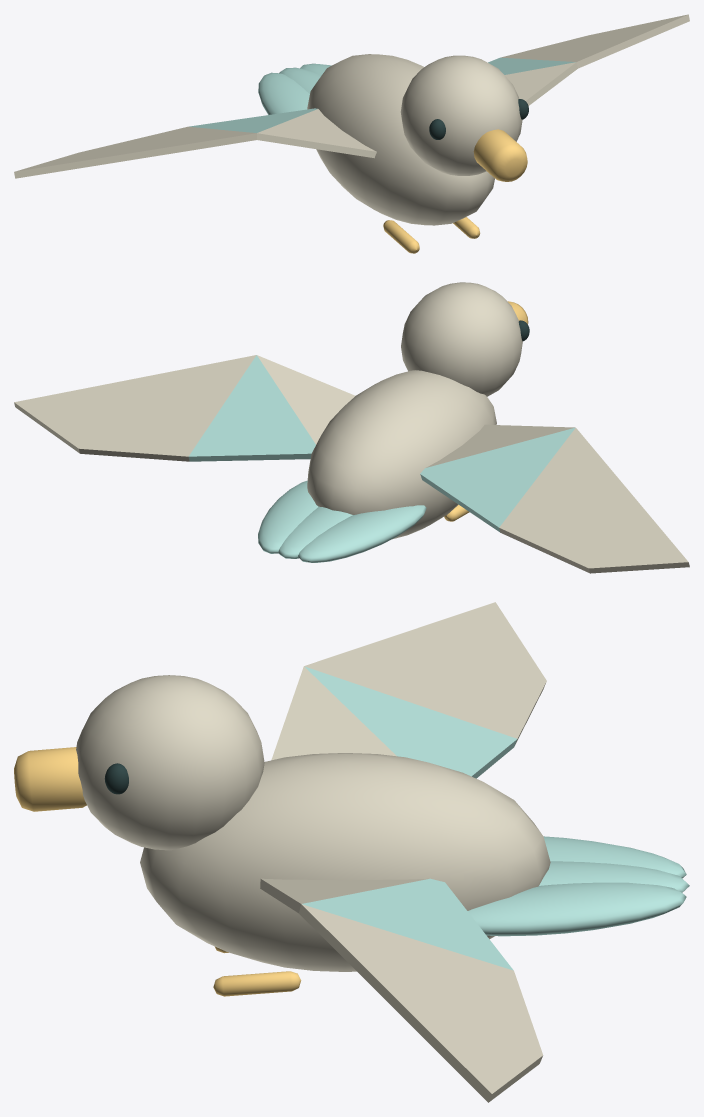
File: q_magic_dove.glb
3 views of the same model, one above another, from view 1: azimuth 30°, elevation 25°; view 2: azimuth 150°, elevation 25°; view 3: azimuth 270°, elevation 25° (orthographic). The views are drawn at different scales.
Parts seen in each view (by area): view 1: DoveBody, DoveHead, WingLeftPaper, WingRightPaper, DoveBeak, DoveTail, DoveFoot, DoveTail.001; view 2: WingRightPaper, WingLeftPaper, DoveBody, DoveHead, DoveTail, DoveTail.002, DoveTail.001; view 3: DoveBody, WingLeftPaper, WingRightPaper, DoveHead, DoveTail.002, DoveBeak, DoveTail.001, DoveTail, DoveFoot.001.
Part boxes in pixels (left/top/right/bottom): DoveBody: left=307, top=54, right=494, bottom=225; DoveHead: left=400, top=55, right=522, bottom=175; WingLeftPaper: left=14, top=108, right=376, bottom=178; WingRightPaper: left=488, top=14, right=689, bottom=105; DoveBeak: left=473, top=129, right=527, bottom=181; DoveTail: left=258, top=72, right=309, bottom=114; DoveFoot: left=383, top=220, right=419, bottom=253; DoveTail.001: left=279, top=67, right=320, bottom=93; WingRightPaper: left=14, top=355, right=355, bottom=461; WingLeftPaper: left=420, top=424, right=689, bottom=573; DoveBody: left=307, top=370, right=496, bottom=539; DoveHead: left=401, top=282, right=522, bottom=396; DoveTail: left=298, top=505, right=426, bottom=562; DoveTail.002: left=258, top=480, right=318, bottom=553; DoveTail.001: left=278, top=506, right=352, bottom=558; DoveBody: left=140, top=753, right=550, bottom=971; WingLeftPaper: left=271, top=602, right=546, bottom=778; WingRightPaper: left=260, top=878, right=543, bottom=1102; DoveHead: left=76, top=675, right=264, bottom=850; DoveTail.002: left=467, top=882, right=686, bottom=936; DoveBeak: left=14, top=747, right=86, bottom=811; DoveTail.001: left=539, top=861, right=689, bottom=892; DoveTail: left=543, top=836, right=686, bottom=878; DoveFoot.001: left=213, top=971, right=301, bottom=996.
Size of the model in its own units: 1.56 by 0.4378 by 0.9218.
